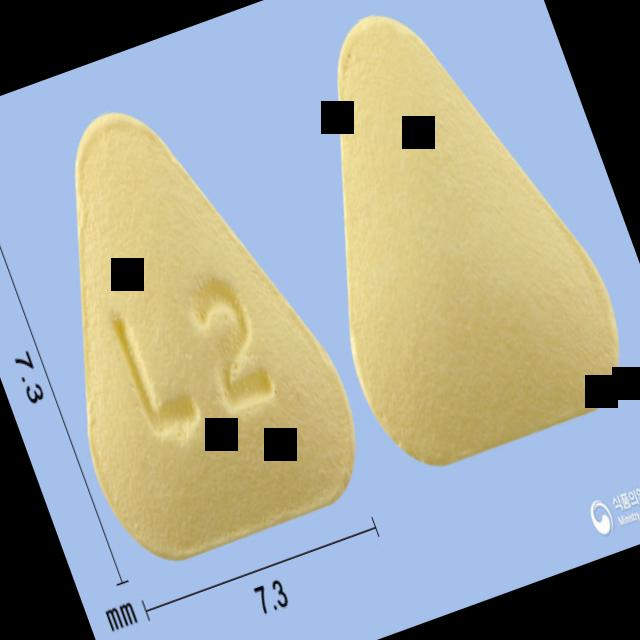Luarva: (0, 67, 382, 581)
